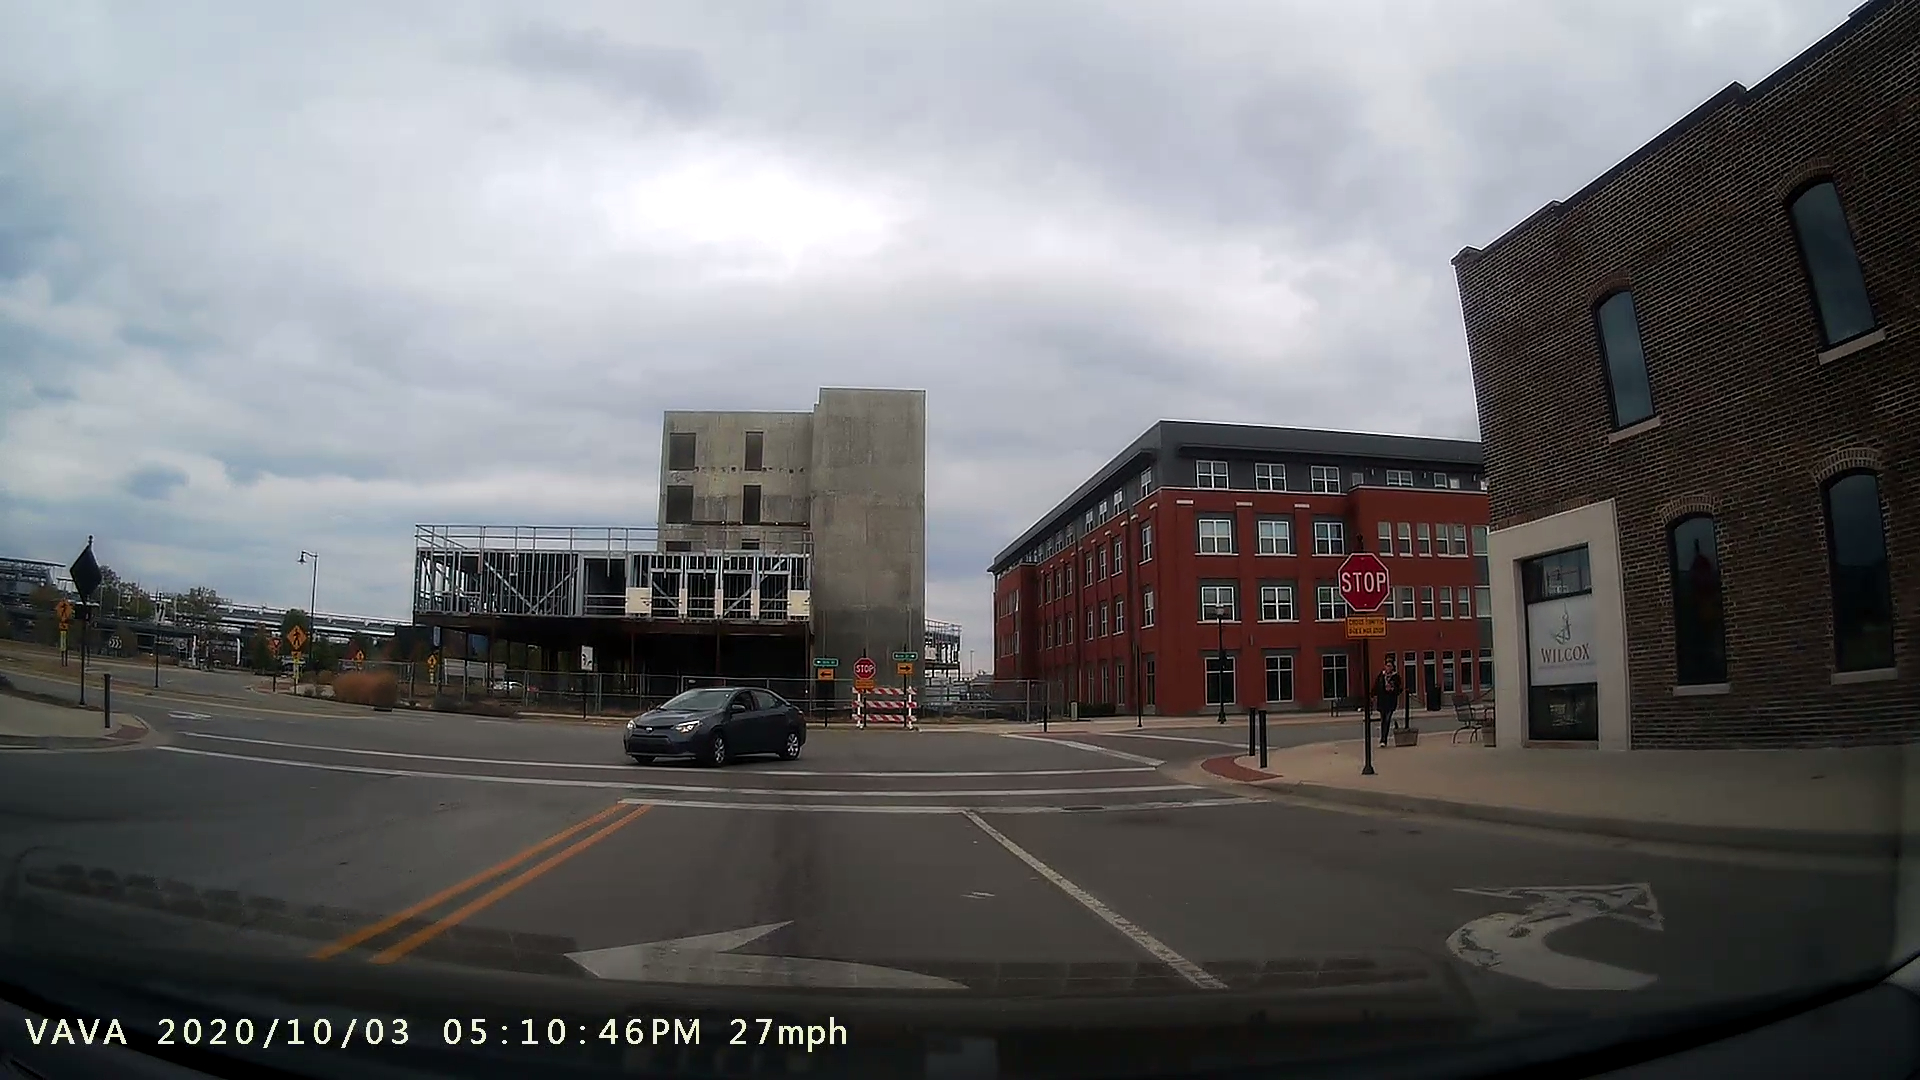right_turn: (1433, 866, 1689, 996)
